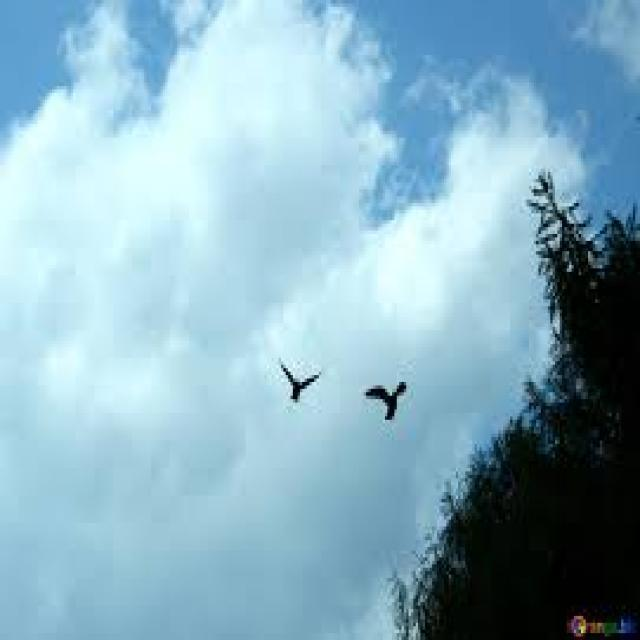bird: (232, 322, 342, 414), (361, 351, 428, 461)
